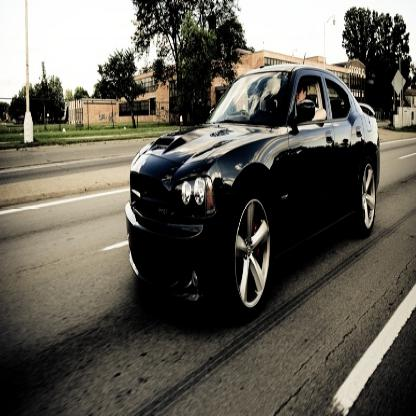Vehicle: (124, 50, 383, 326)
